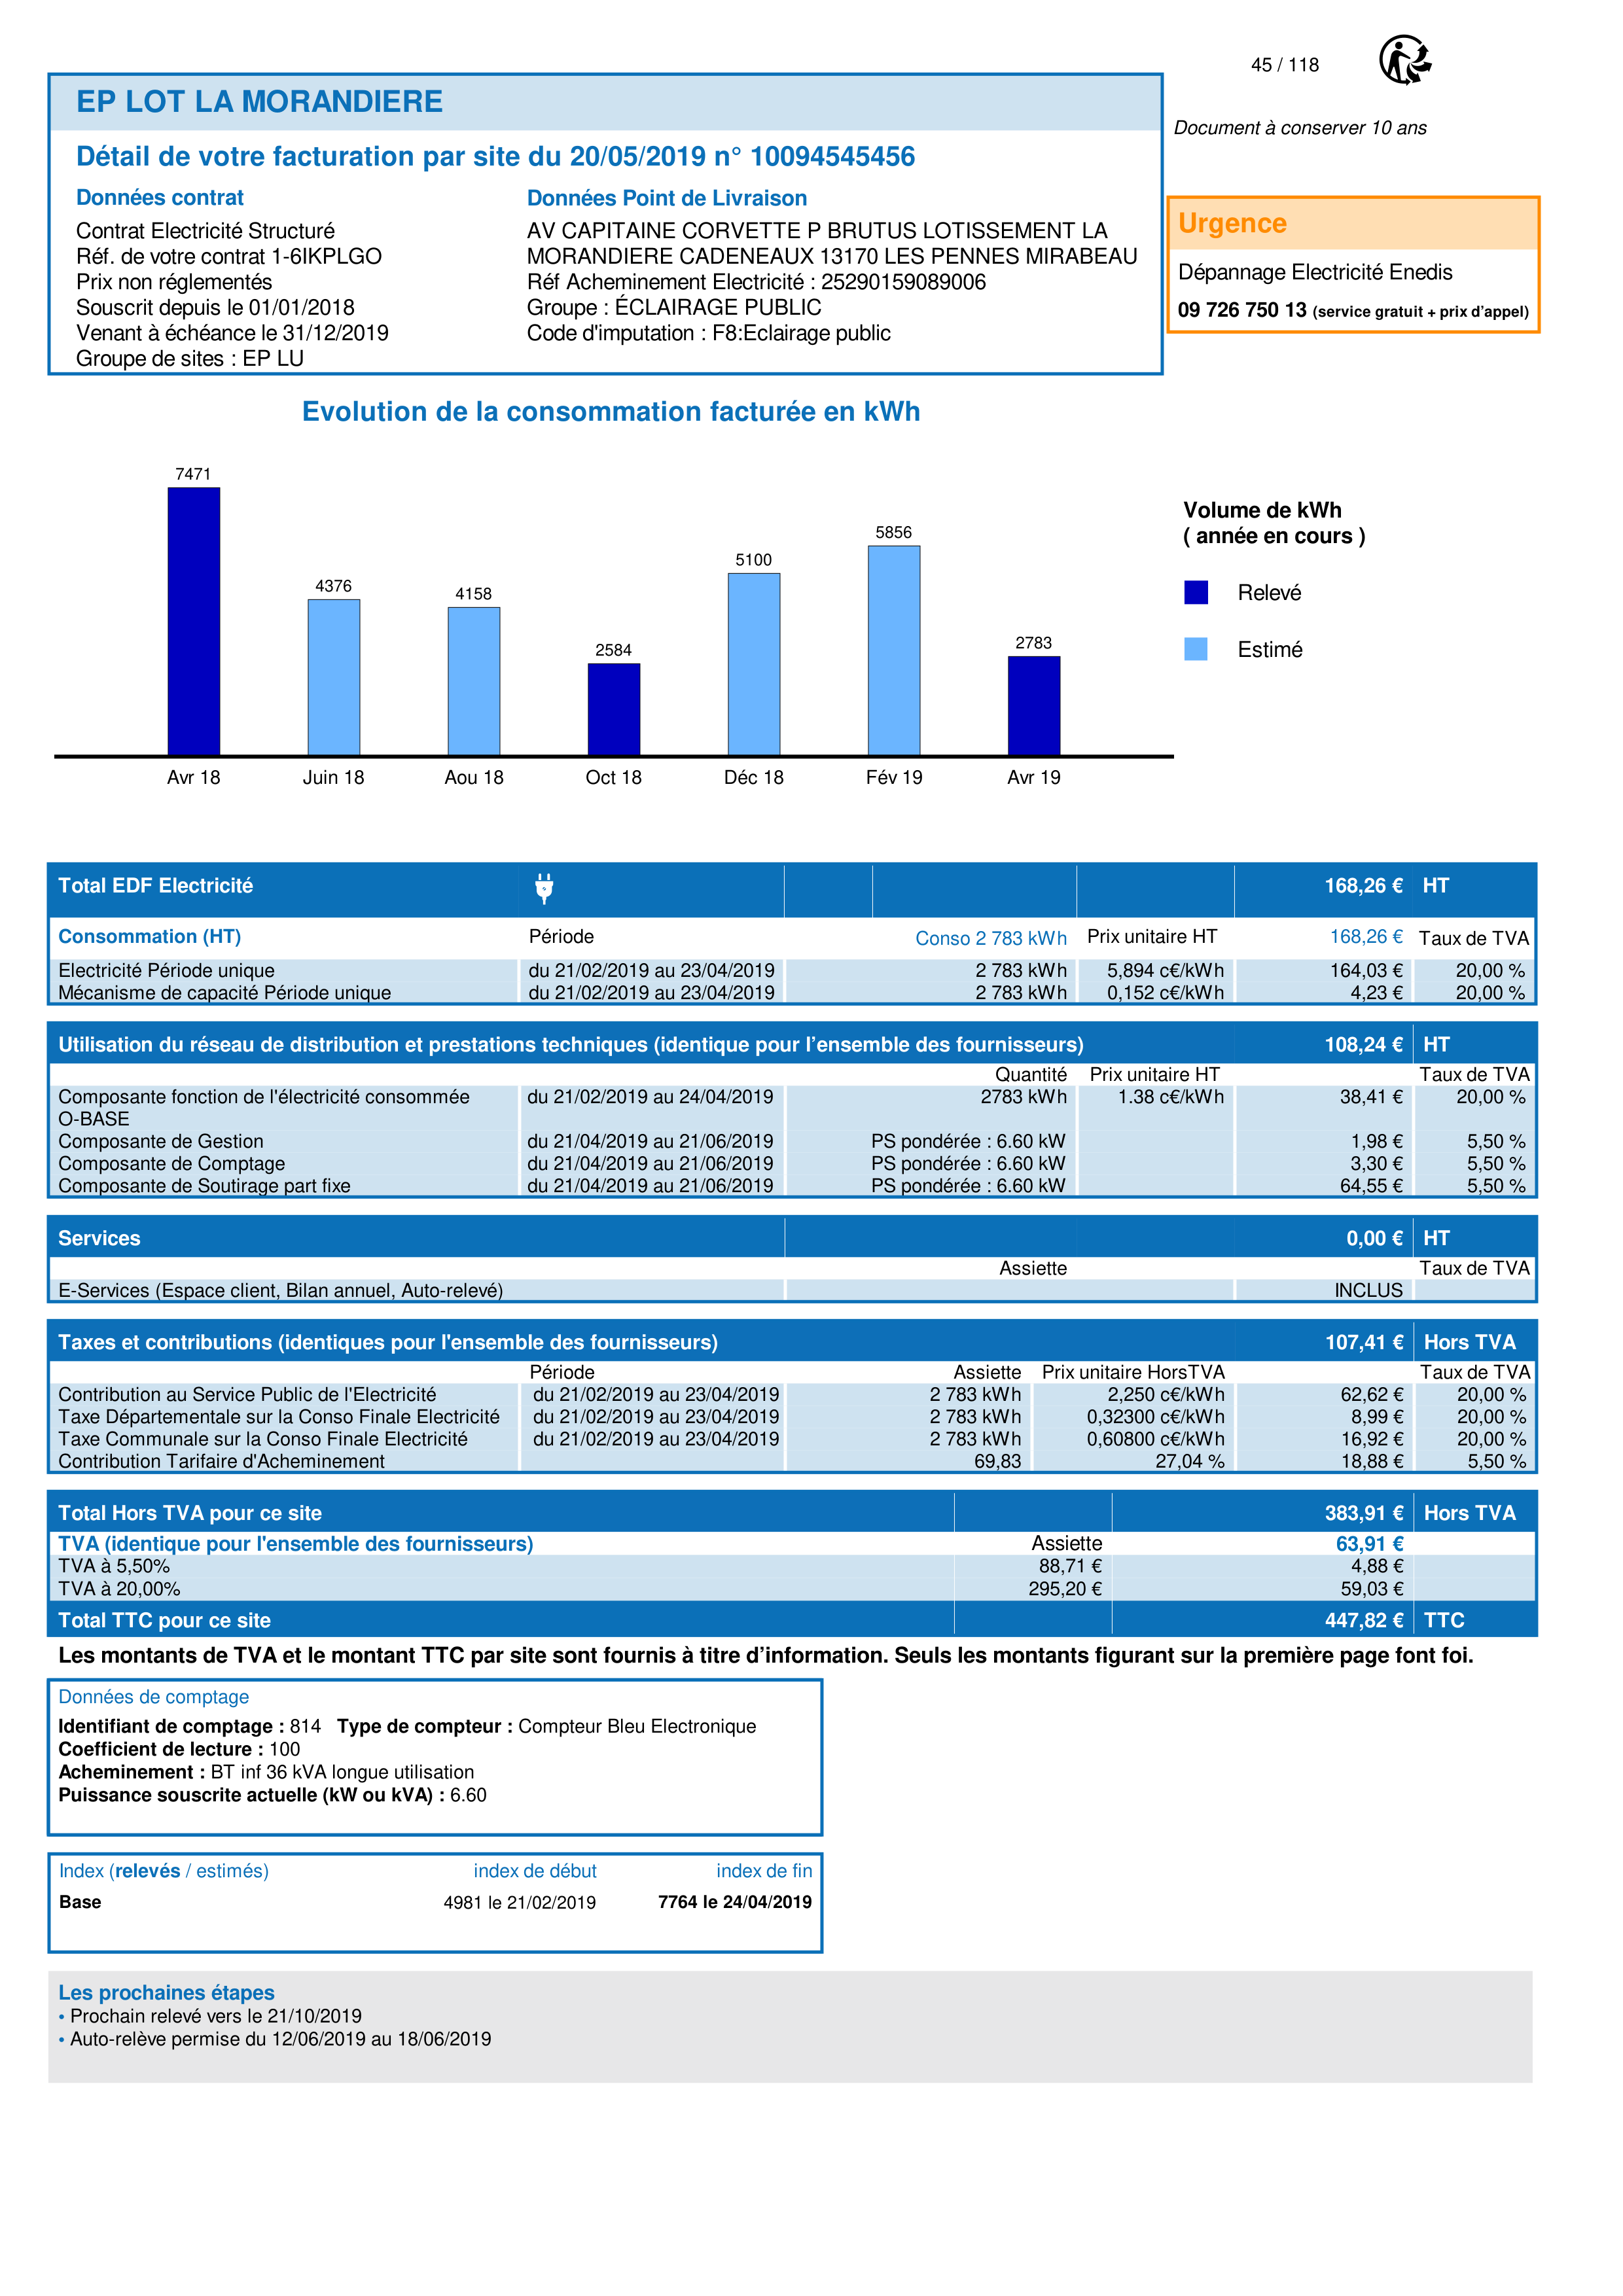area: (49, 1852, 822, 1950)
type_indicator: (47, 1853, 282, 1888)
